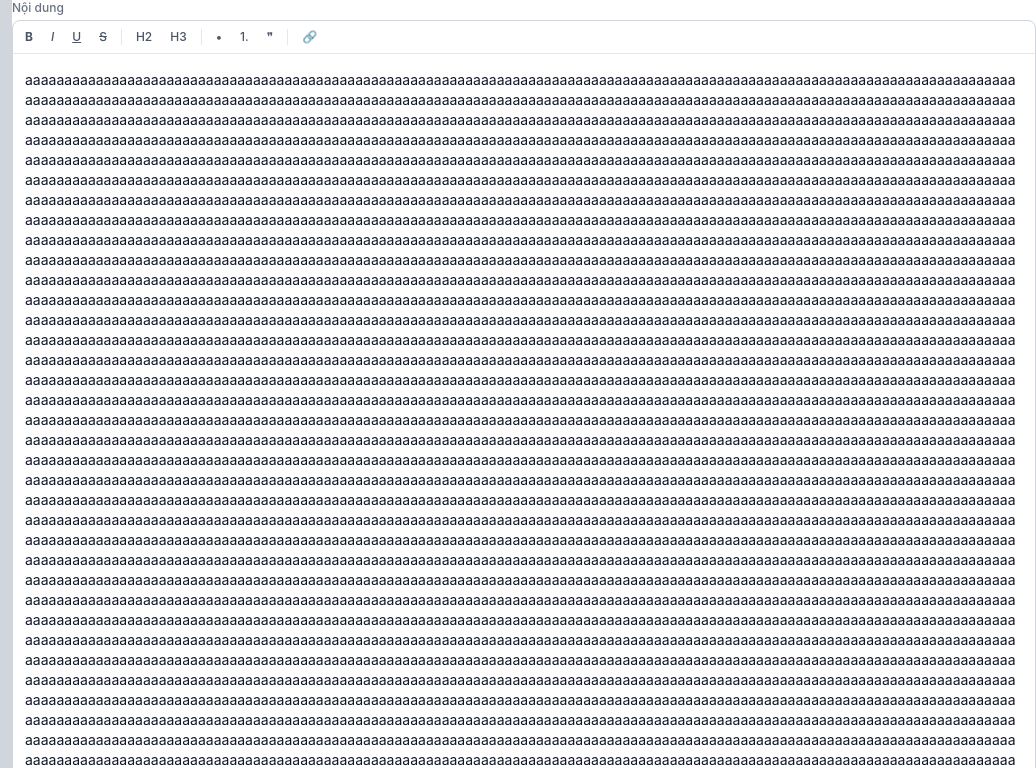
Test: TextPanel's rich text keeps the document schema-valid › refuses an edit that would push props.html past the schema's 10.000-character cap
The image size is (1036, 768).
Click the button named "Danh sách". click: (219, 37)
box: left=208, top=25, right=230, bottom=49
(page scrolled)
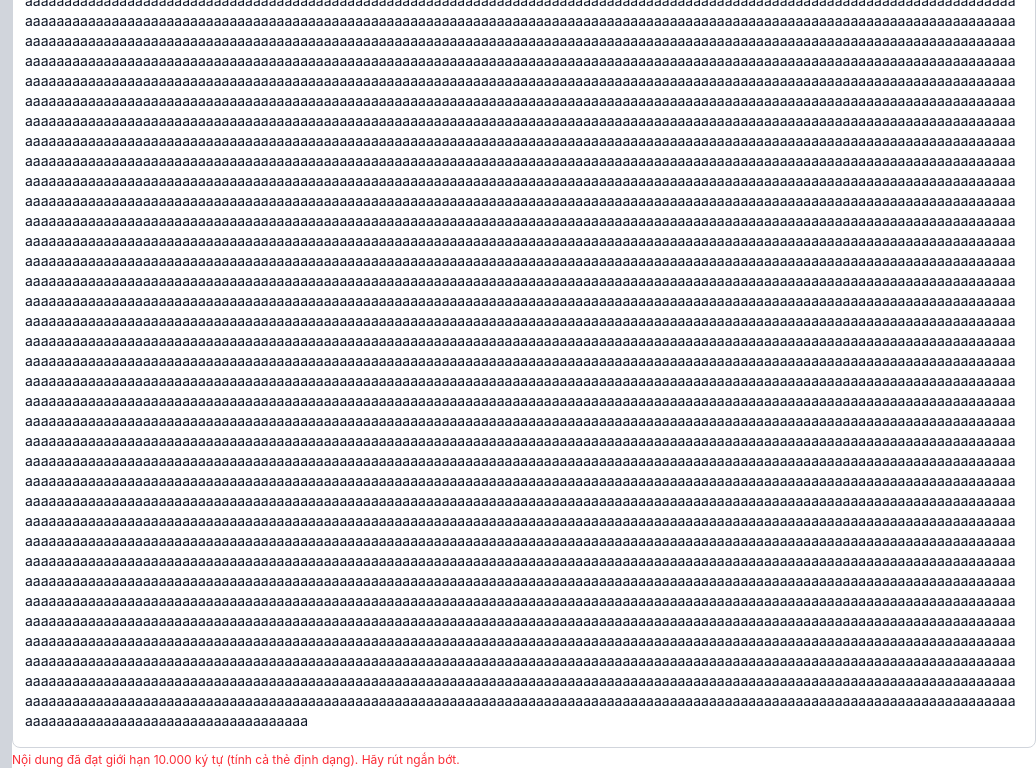
Expected: the message shows "giới hạn", left=12, top=752, right=460, bottom=767
